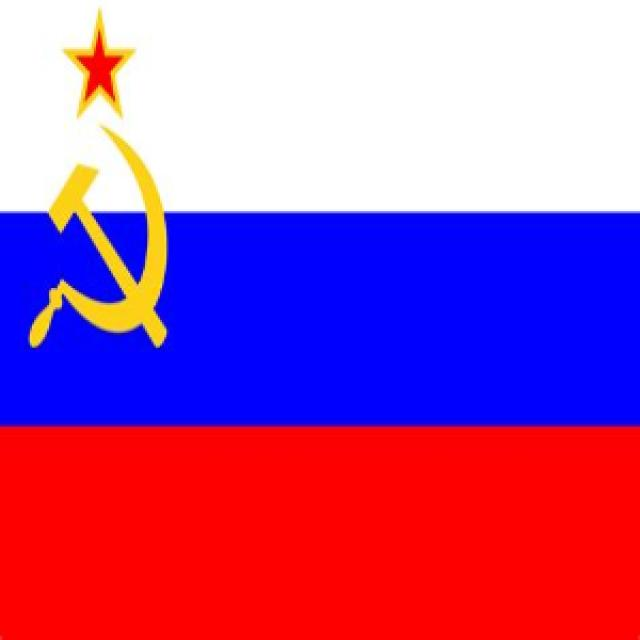russia: (7, 7, 640, 639)
